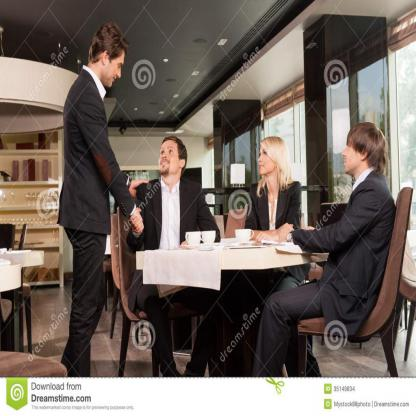face: (343, 135, 363, 172), (103, 53, 125, 86), (160, 142, 180, 173), (260, 147, 276, 175)
